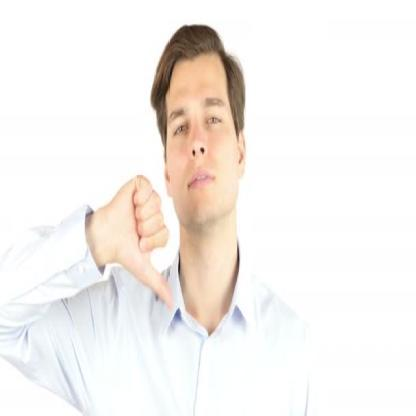thumb_down: (112, 170, 176, 312)
